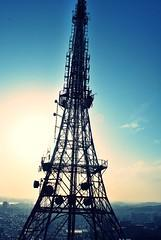power_tower: (22, 2, 129, 240)
